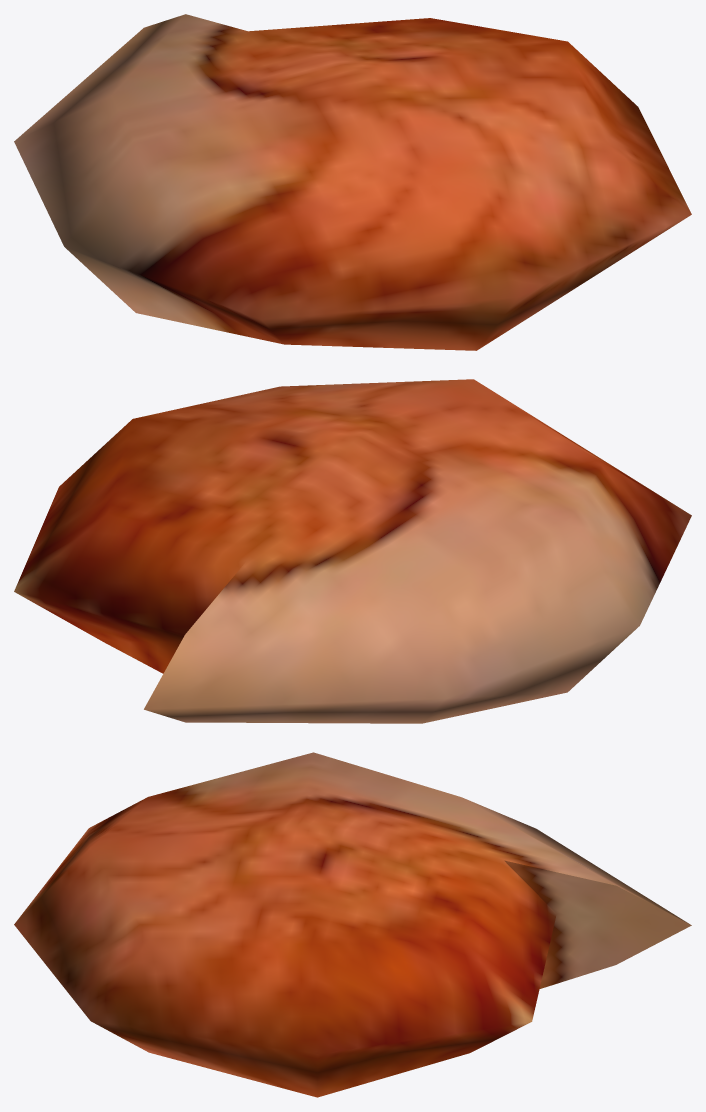
Rendered from colony-shell-art.glb.
3 renders of one model, top to bottom at view 1: azimuth 30°, elevation 25°; view 2: azimuth 150°, elevation 25°; view 3: azimuth 270°, elevation 25°, orthographic. The views are drawn at different scales.
Parts seen in each view (by area): view 1: Colony_Shell_Art; view 2: Colony_Shell_Art; view 3: Colony_Shell_Art.
Part boxes in pixels (x1,y1,x2,y2): Colony_Shell_Art: (14,14,691,350); Colony_Shell_Art: (14,379,691,723); Colony_Shell_Art: (14,752,691,1097).
Bounding box in the file's own units: 1.97 × 0.7286 × 2.2.
1 material, 1 textured.
